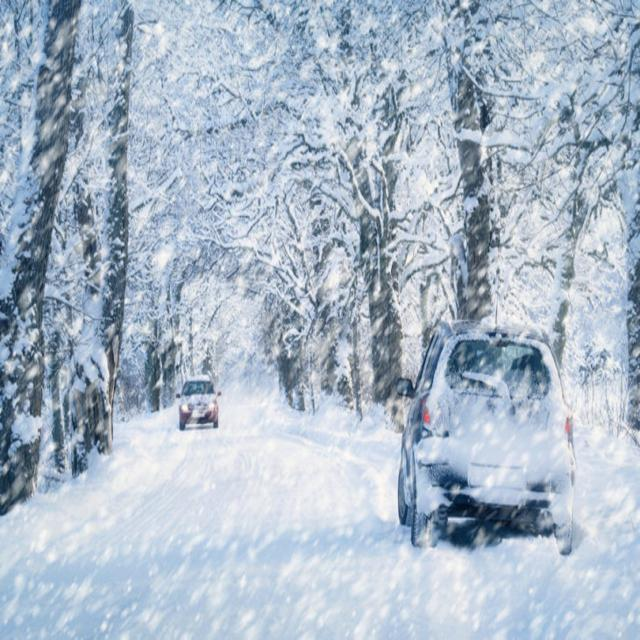car: (396, 319, 572, 552), (177, 376, 219, 428)
